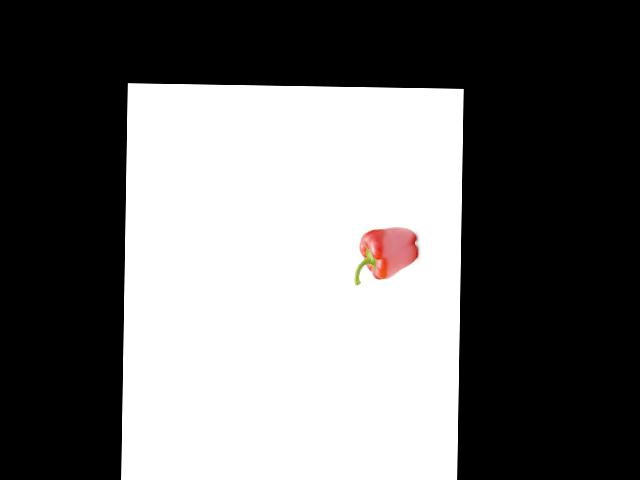bell_pepper: (350, 223, 423, 288)
